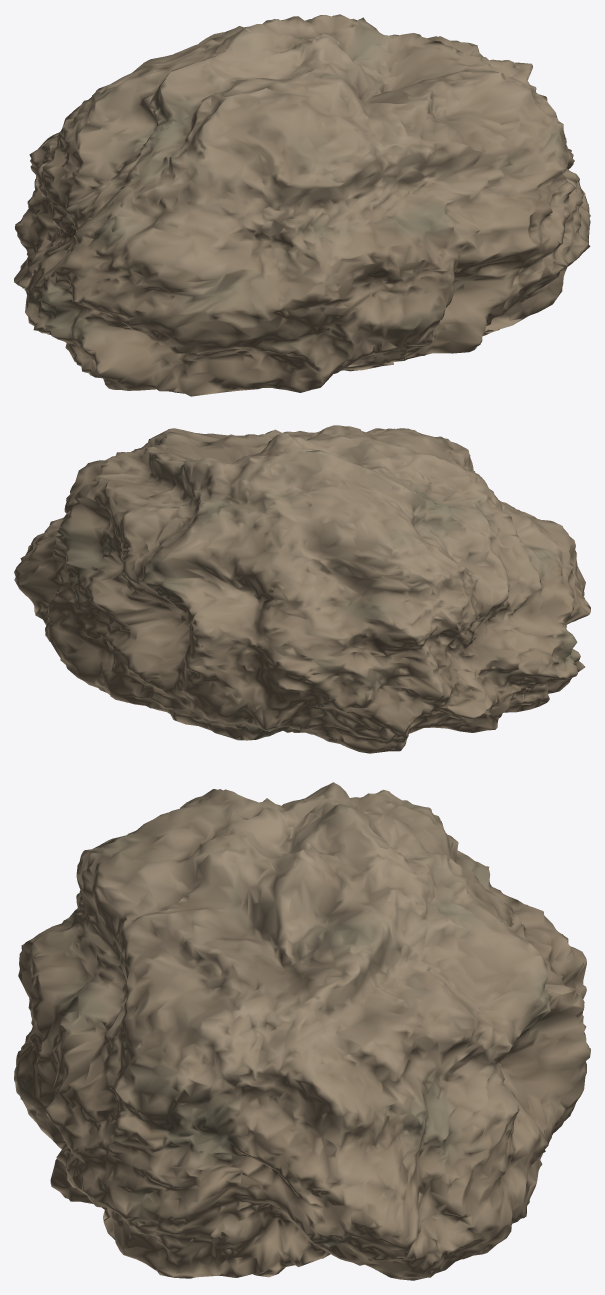
Rendered from scan.lod1.glb.
The picture shows the model from 3 angles, top to bottom: view 1: azimuth 30°, elevation 25°; view 2: azimuth 150°, elevation 25°; view 3: azimuth 270°, elevation 25°; orthographic projection. The views are drawn at different scales.
Visible parts, largest first — view 1: Scan_0412; view 2: Scan_0412; view 3: Scan_0412.
Boxes of the visible parts, x1=… form: Scan_0412: x1=14, y1=14, x2=590, y2=396; Scan_0412: x1=14, y1=425, x2=590, y2=753; Scan_0412: x1=14, y1=782, x2=590, y2=1280.
Bounding box in the file's own units: 3.06 × 1.41 × 2.19.
